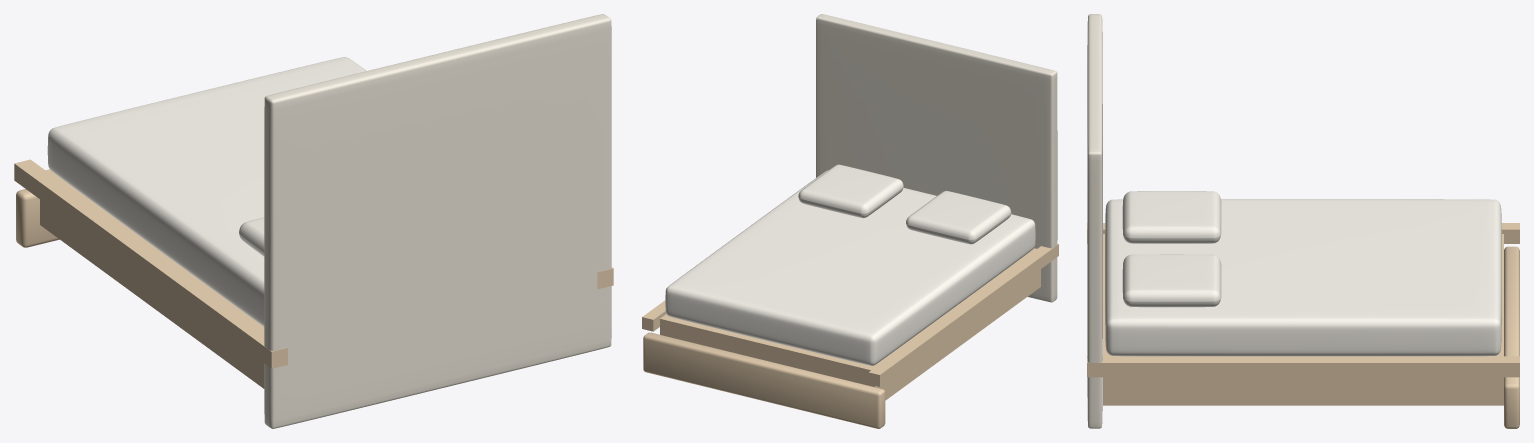
3 views of the same model, side by side, from view 1: azimuth 30°, elevation 25°; view 2: azimuth 150°, elevation 25°; view 3: azimuth 270°, elevation 25° (orthographic). The views are drawn at different scales.
Parts seen in each view (by area): view 1: Headboard, Mattress, BedFrame, Footboard, Pillow; view 2: Headboard, Mattress, BedFrame, Footboard, Pillow, Pillow.001; view 3: Mattress, BedFrame, Headboard, Pillow.001, Pillow, Footboard.
Part boxes in pixels (box(x1,y1,x2,y2)): Headboard: box(264, 14, 611, 428); Mattress: box(47, 57, 366, 326); BedFrame: box(14, 159, 613, 388); Footboard: box(16, 189, 59, 247); Pillow: box(239, 217, 264, 256); Headboard: box(816, 14, 1057, 302); Mattress: box(665, 170, 1035, 365); BedFrame: box(642, 244, 1058, 400); Footboard: box(643, 332, 885, 428); Pillow: box(906, 191, 1011, 244); Pillow.001: box(798, 164, 903, 218); Mattress: box(1105, 199, 1501, 356); BedFrame: box(1087, 223, 1519, 405); Headboard: box(1087, 14, 1102, 428); Pillow.001: box(1122, 254, 1221, 307); Pillow: box(1122, 191, 1221, 243); Footboard: box(1504, 246, 1519, 428).
Size of the model in its own units: 1.68 by 1.55 by 2.19.
